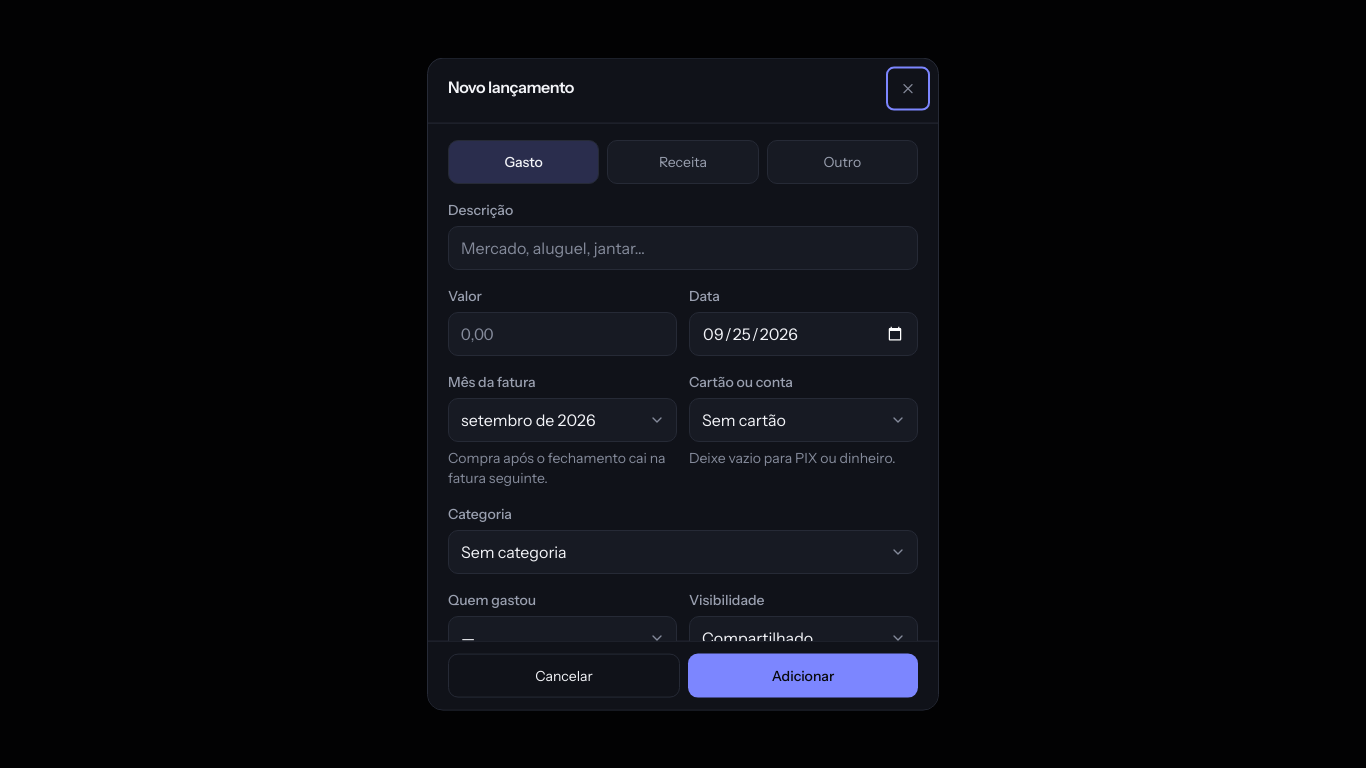
Test case: formulário › regra da casa preenche sozinha, e diz de onde veio
Type "Corrida pro aeroporto" into the field labelled "Descrição".
click(683, 248); type("Corrida pro aeroporto")  # box left=448, top=226, right=918, bottom=270
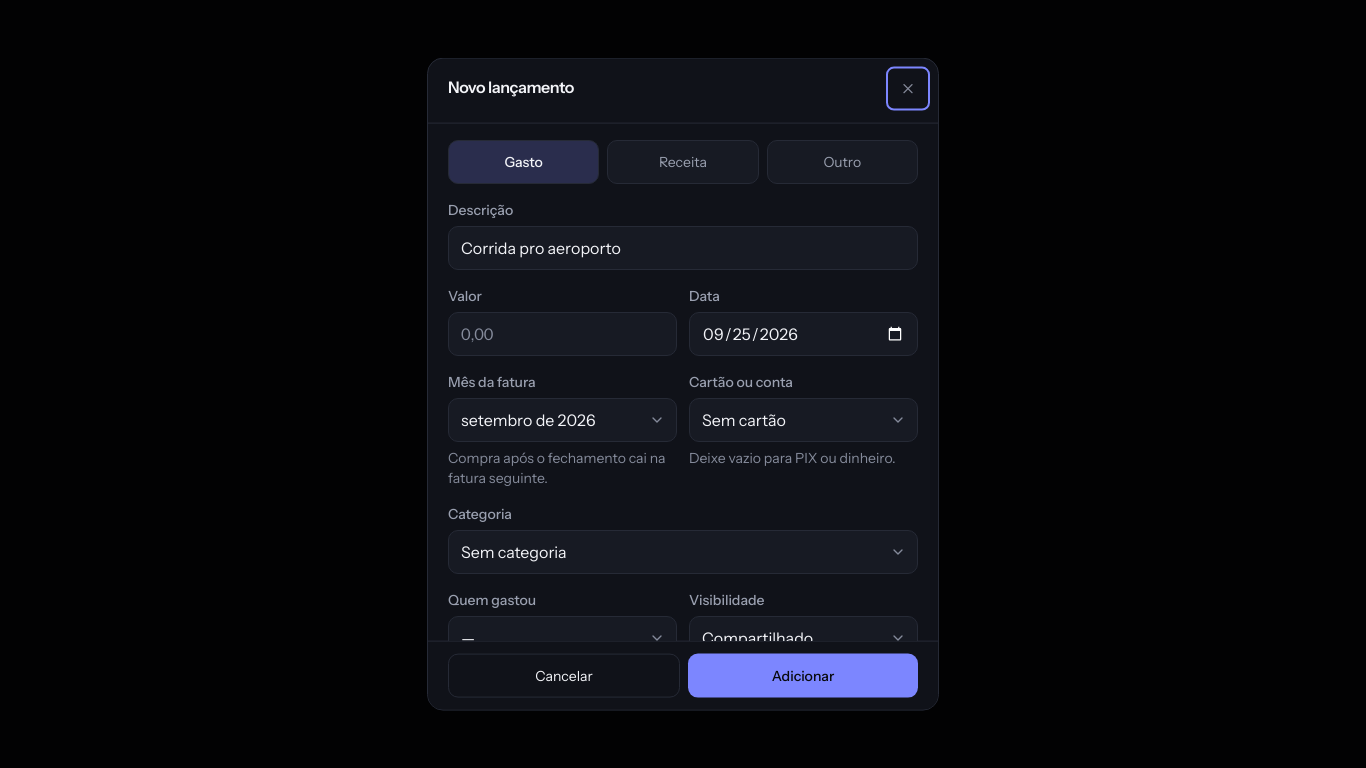
Leave the field labelled "Descrição", box left=448, top=226, right=918, bottom=270
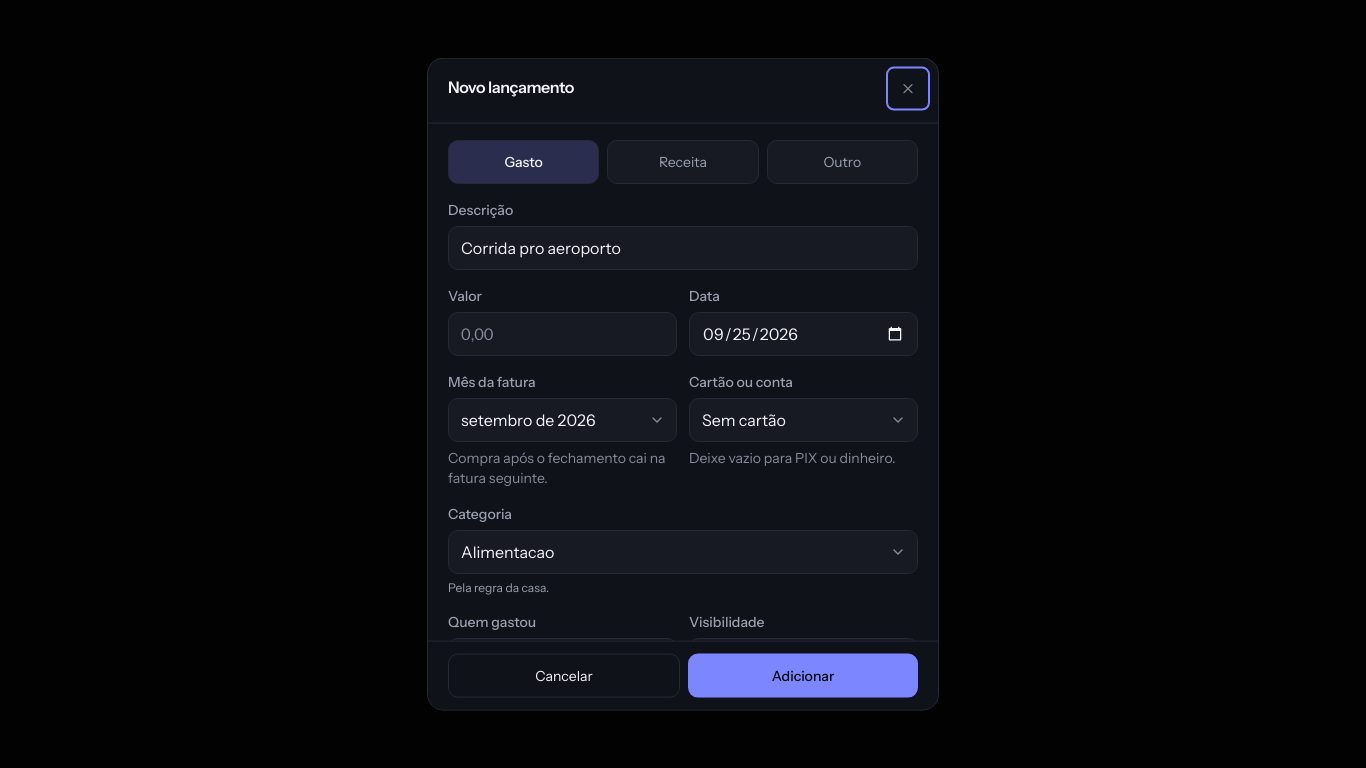
Result: the text "Pela regra da casa." is shown at left=448, top=580, right=549, bottom=595
Result: the dropdown labelled "Categoria" shows "Alimentacao" at left=448, top=530, right=918, bottom=574
